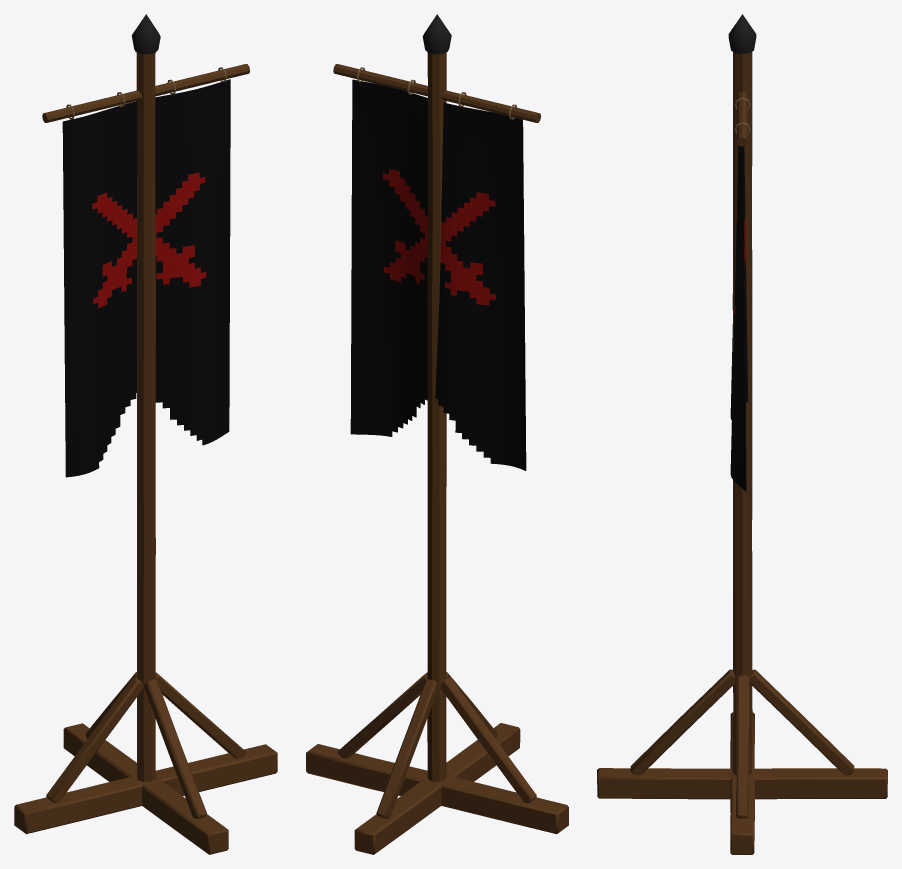
The model's file is banner_schwarz.glb.
3 views of the same model, side by side, from view 1: azimuth 30°, elevation 25°; view 2: azimuth 150°, elevation 25°; view 3: azimuth 270°, elevation 25° (orthographic).
Parts seen in each view (by area): view 1: banner_schwarz; view 2: banner_schwarz; view 3: banner_schwarz.
Part boxes in pixels (bbox=[...]): banner_schwarz: bbox=[14, 14, 277, 854]; banner_schwarz: bbox=[306, 14, 568, 854]; banner_schwarz: bbox=[597, 14, 887, 854].
Size of the model in its own units: 1.2 by 3.56 by 1.2.
